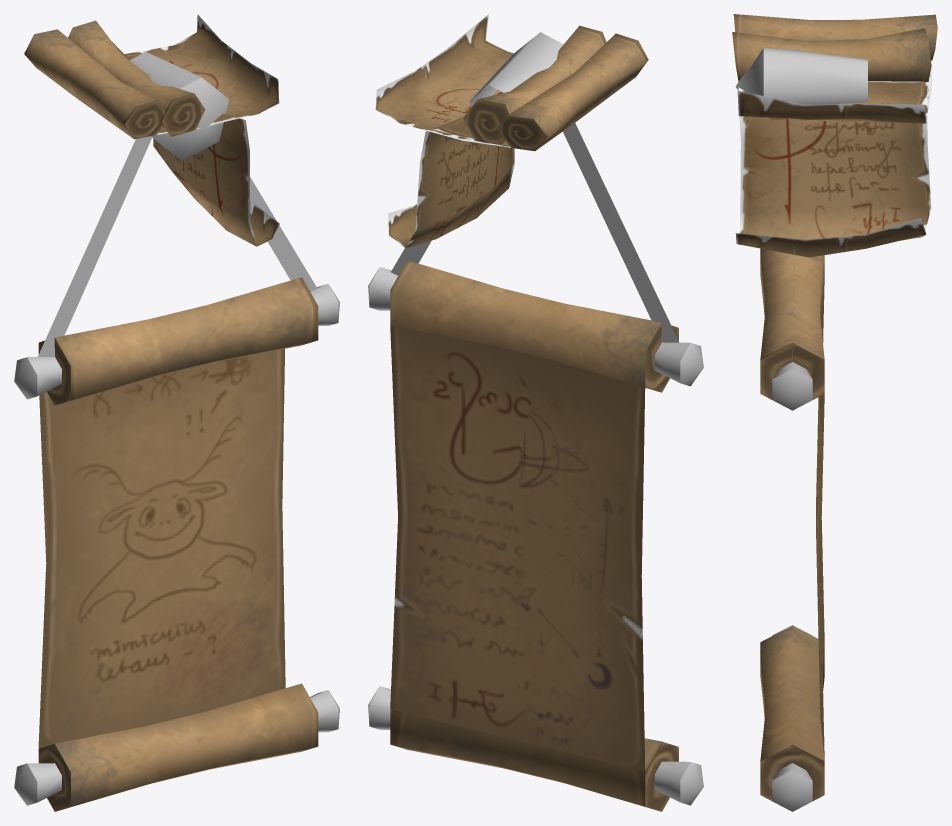
The model's file is scrolls.fbx.
3 views of the same model, side by side, from view 1: azimuth 30°, elevation 25°; view 2: azimuth 150°, elevation 25°; view 3: azimuth 270°, elevation 25° (orthographic). The views are drawn at different scales.
Visible parts, largest first — view 1: Scroll6_low, Scroll3_low, Scroll4_low, Scroll8_low, Scroll9_low, Scroll7_low; view 2: Scroll9_low, Scroll8_low, Scroll7_low, Scroll3_low, Scroll4_low, Scroll6_low; view 3: Scroll4_low, Scroll6_low, Scroll3_low, Scroll7_low, Scroll9_low, Scroll8_low.
Part boxes in pixels (x1,y1,x2,y2): Scroll6_low: [19, 78, 339, 809]; Scroll3_low: [24, 14, 279, 139]; Scroll4_low: [68, 20, 279, 246]; Scroll8_low: [14, 58, 332, 811]; Scroll9_low: [129, 52, 326, 698]; Scroll7_low: [93, 117, 339, 707]; Scroll9_low: [368, 32, 668, 778]; Scroll8_low: [370, 52, 703, 811]; Scroll7_low: [368, 127, 690, 809]; Scroll3_low: [375, 14, 648, 151]; Scroll4_low: [388, 25, 606, 248]; Scroll6_low: [380, 33, 669, 690]; Scroll4_low: [732, 28, 931, 257]; Scroll6_low: [736, 48, 867, 801]; Scroll3_low: [733, 14, 937, 123]; Scroll7_low: [736, 87, 867, 811]; Scroll9_low: [737, 48, 867, 804]; Scroll8_low: [740, 49, 867, 700].
Bounding box in the file's own units: 1141 × 632 × 2395.
